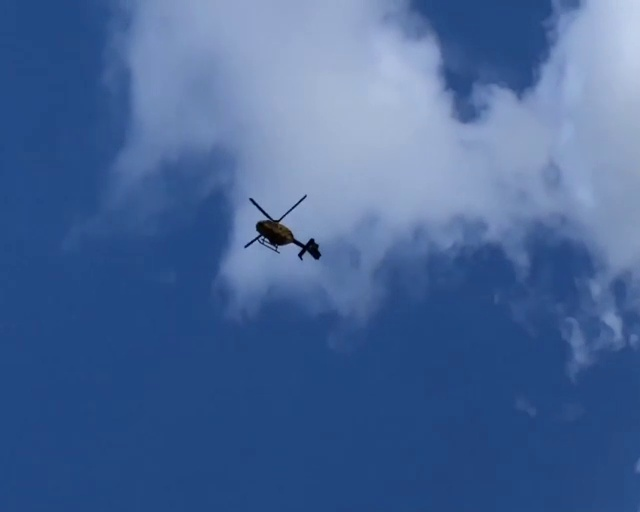HELICOPTER: (243, 192, 323, 259)
